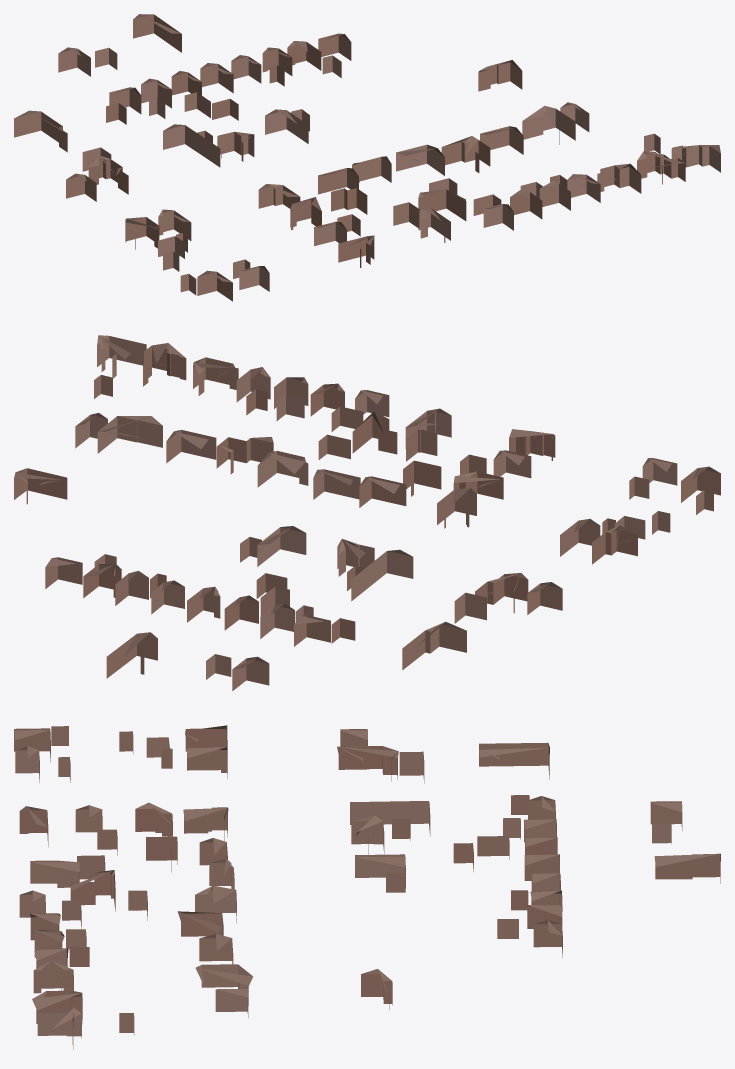
The model's file is c_1647_17827_buildings_residential.glb.
3 renders of one model, top to bottom at view 1: azimuth 30°, elevation 25°; view 2: azimuth 150°, elevation 25°; view 3: azimuth 270°, elevation 25°, orthographic. The views are drawn at different scales.
Parts seen in each view (by area): view 1: geometry_0; view 2: geometry_0; view 3: geometry_0.
Part boxes in pixels (x1,y1,x2,y2): geometry_0: [14, 14, 720, 301]; geometry_0: [14, 335, 720, 691]; geometry_0: [14, 725, 720, 1049].
Size of the model in its own units: 268 by 10.94 by 257.
